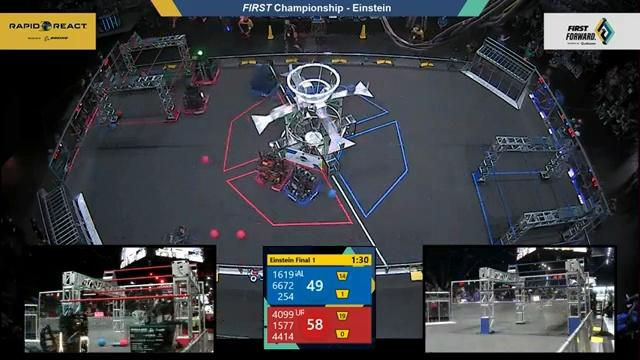robot: (251, 147, 295, 194), (281, 163, 326, 208), (247, 61, 283, 102), (186, 48, 223, 85), (177, 80, 213, 117), (159, 223, 199, 248)
